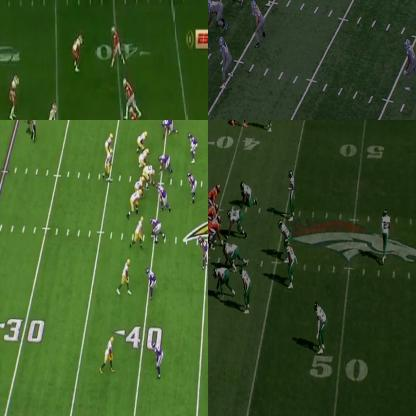CENTER: (212, 214, 223, 244), (143, 165, 156, 188)
DB: (403, 37, 415, 91), (380, 208, 392, 261), (314, 303, 326, 349), (288, 170, 297, 220), (152, 341, 165, 375), (71, 32, 82, 72), (7, 75, 17, 119), (198, 234, 208, 264), (146, 269, 156, 297), (264, 120, 274, 132)
LB: (249, 0, 265, 46), (284, 239, 296, 287), (219, 39, 231, 84), (240, 268, 250, 306), (278, 218, 291, 240), (189, 133, 198, 163), (187, 174, 197, 201), (45, 104, 59, 119)
QB: (104, 149, 113, 182), (208, 198, 210, 229)
SKILL: (122, 76, 141, 118), (110, 27, 126, 67), (119, 258, 131, 293), (101, 338, 115, 368), (133, 218, 144, 247), (127, 107, 144, 119), (104, 134, 114, 152)
